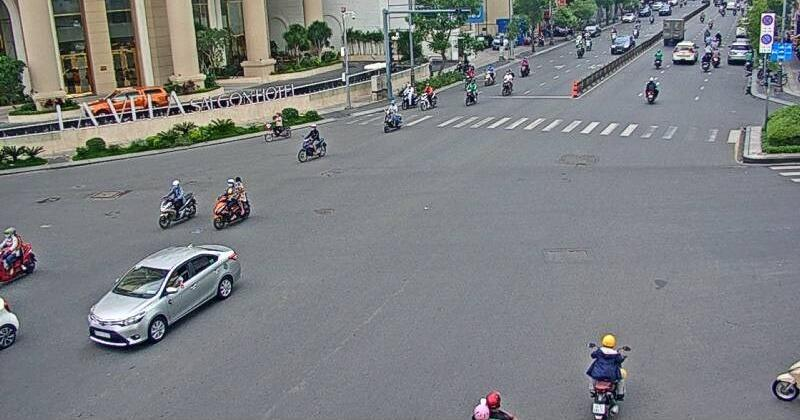xe dap: (264, 112, 291, 141)
xe hoi: (82, 243, 241, 352)
xe may: (582, 332, 631, 417), (0, 225, 38, 285), (213, 176, 251, 229), (159, 177, 196, 229), (297, 122, 327, 161), (382, 100, 404, 134)
